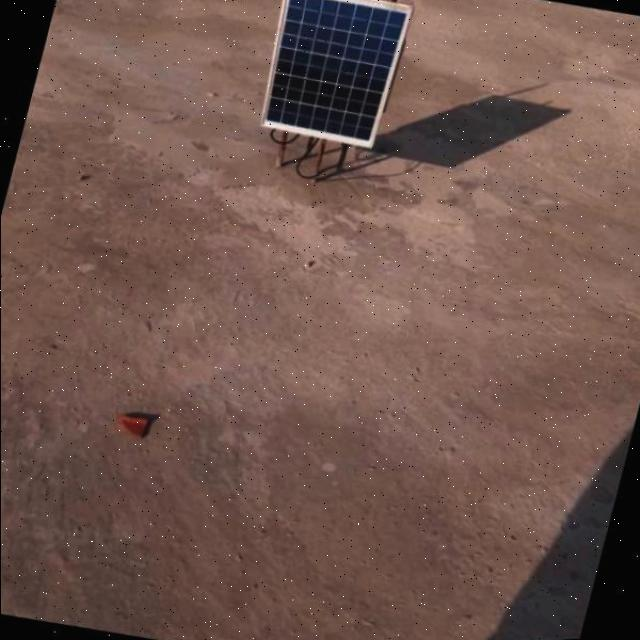Normal Solar Panel: (243, 0, 409, 163)
